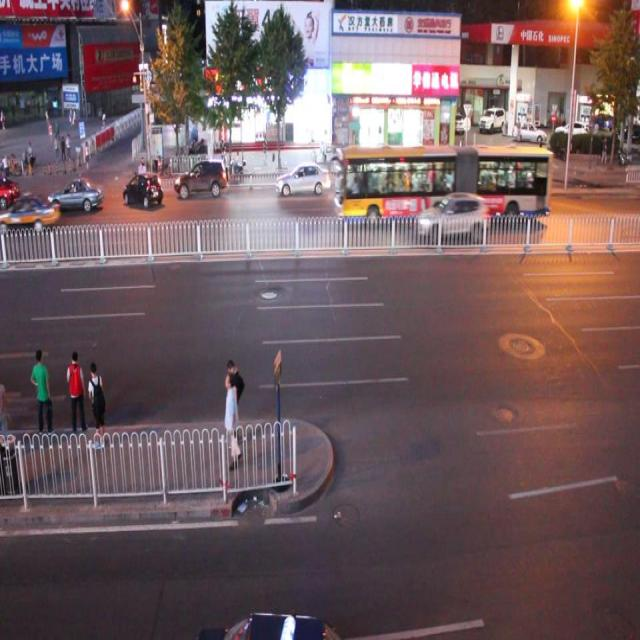car: (193, 607, 356, 640), (416, 190, 486, 241), (0, 193, 60, 235), (174, 157, 228, 197), (276, 161, 330, 197), (49, 179, 104, 214), (366, 159, 414, 195), (123, 171, 164, 209), (1, 174, 19, 211)
van: (333, 143, 551, 223)
